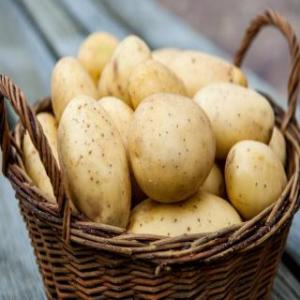potato: (59, 89, 137, 242), (125, 79, 222, 198), (128, 188, 246, 262), (196, 65, 276, 154), (224, 132, 292, 222)
